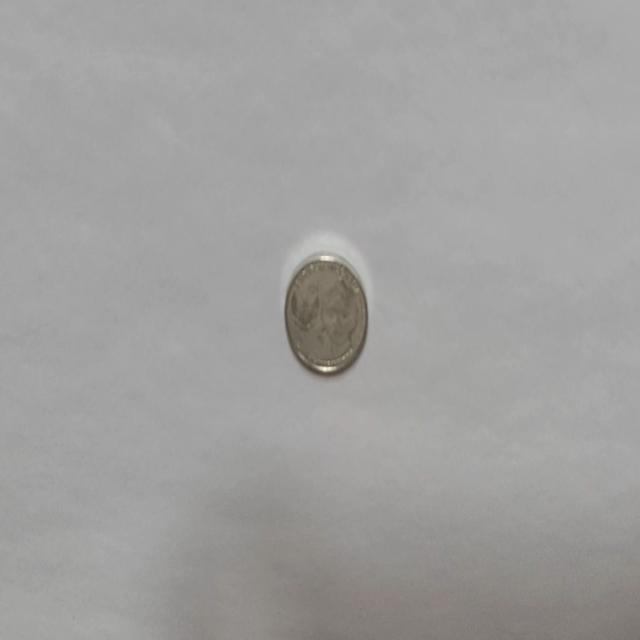dua ratus rupiah: (284, 251, 368, 375)
